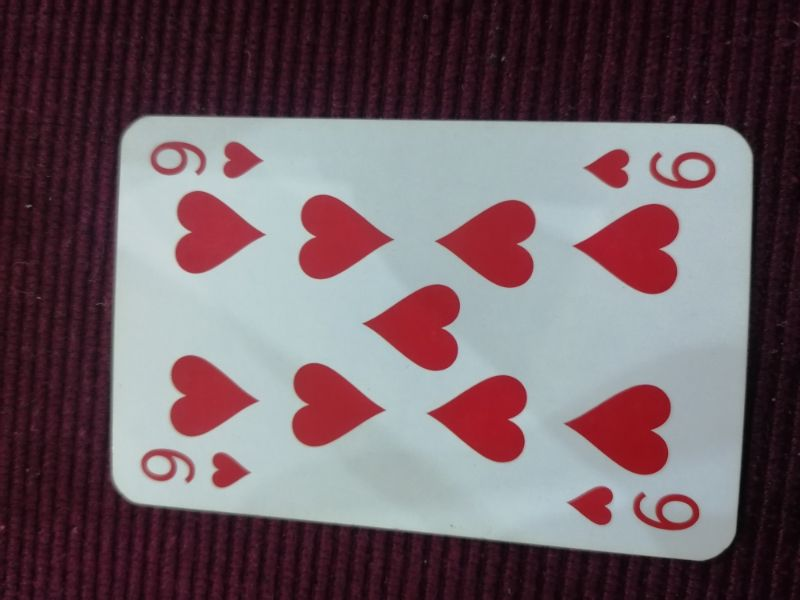9h: (562, 481, 705, 537), (579, 139, 720, 194), (145, 135, 268, 183), (139, 442, 254, 490)
